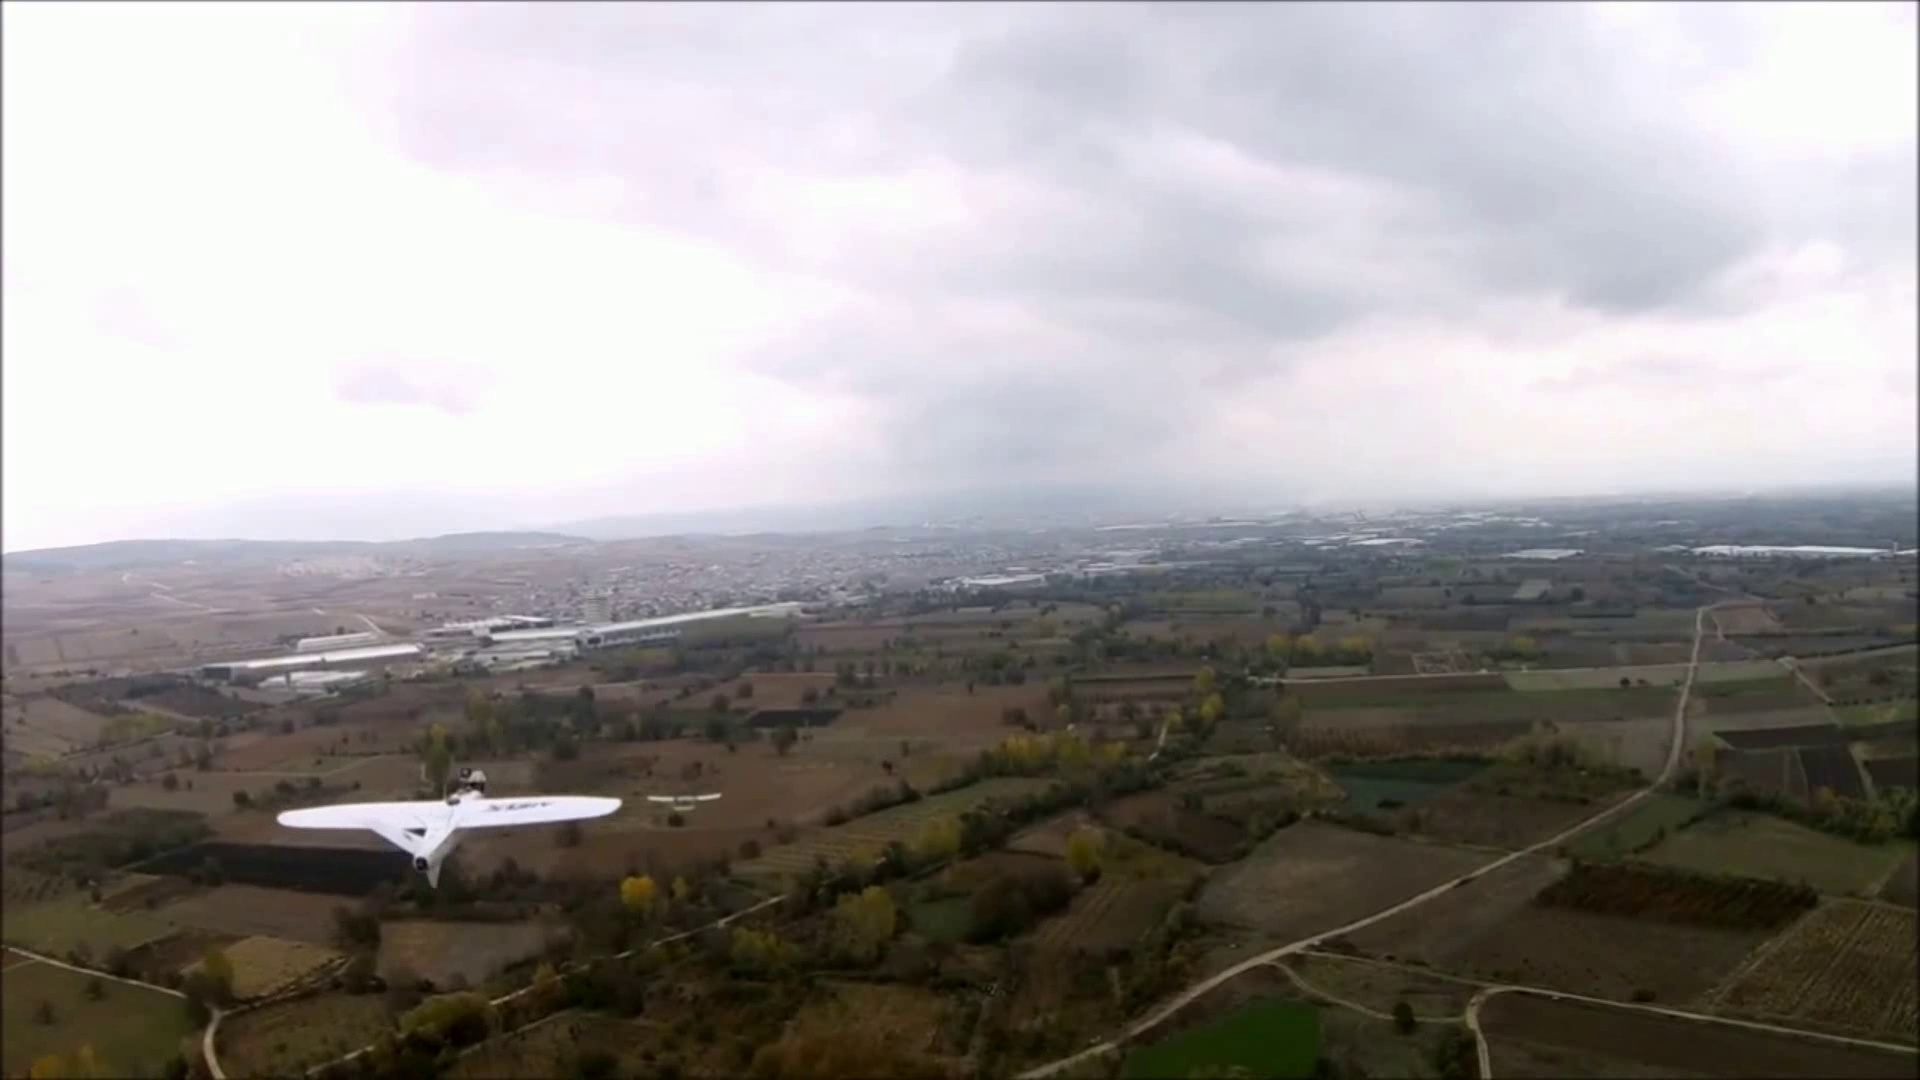airplane: (273, 791, 624, 892)
